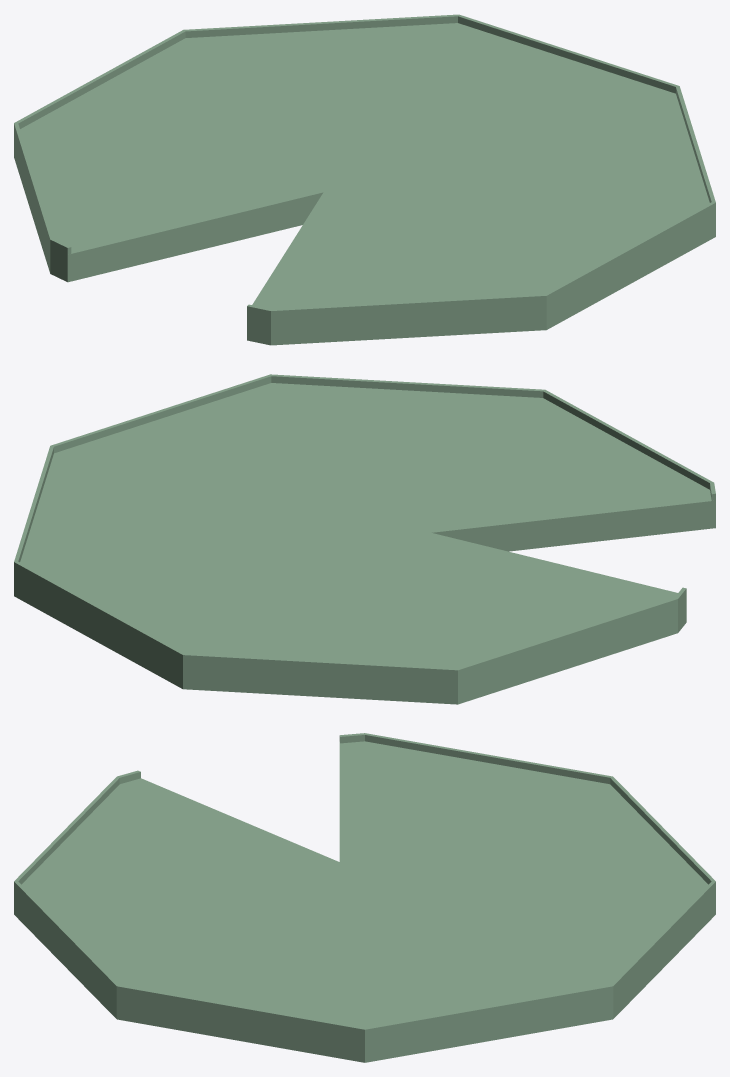
File: Lily-Pad1.fbx
3 views of the same model, one above another, from view 1: azimuth 30°, elevation 25°; view 2: azimuth 150°, elevation 25°; view 3: azimuth 270°, elevation 25° (orthographic). The views are drawn at different scales.
Parts seen in each view (by area): view 1: Lily_pad; view 2: Lily_pad; view 3: Lily_pad.
Boxes of the visible parts, x1,y1,x2,y2 form: Lily_pad: (14,14,715,345); Lily_pad: (14,374,715,704); Lily_pad: (14,733,715,1062).
Size of the model in its own units: 0.3347 by 0.0174 by 0.3347.
